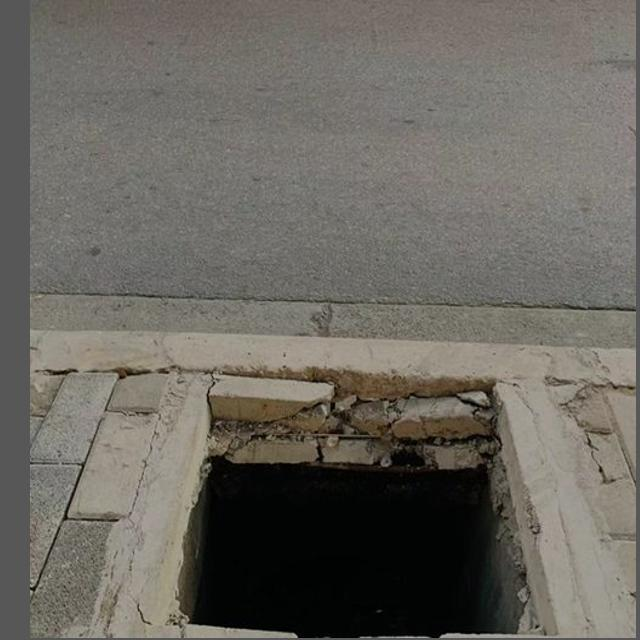lose: (139, 341, 587, 635)
